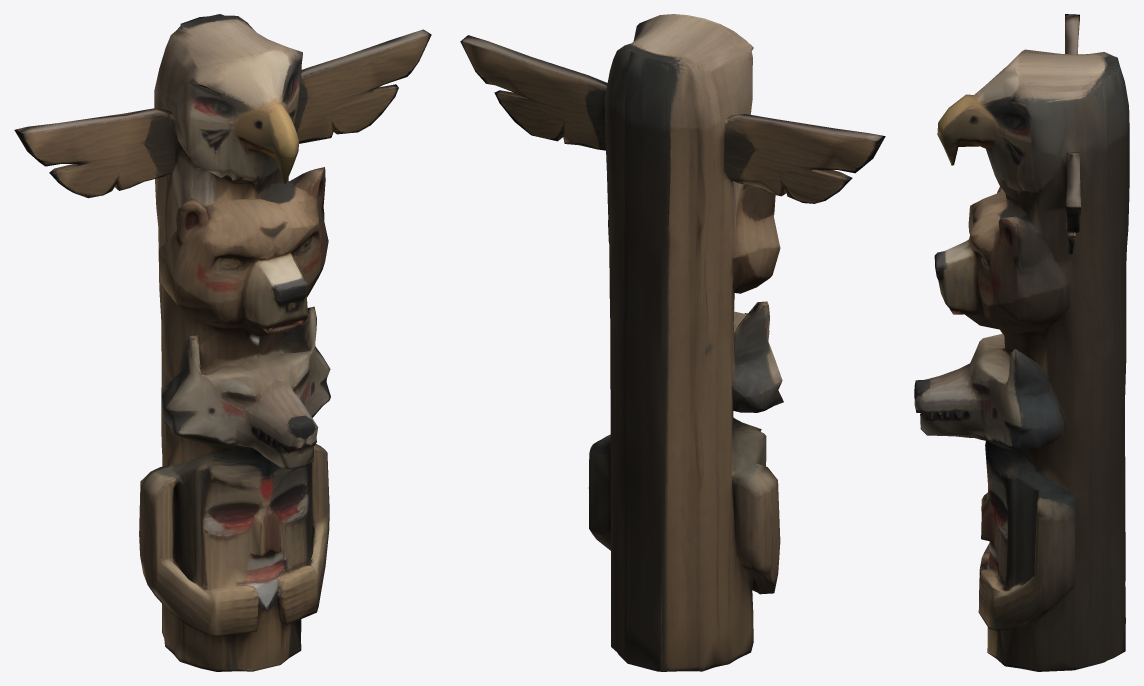
Rendered from totem_pole.glb.
3 views of the same model, side by side, from view 1: azimuth 30°, elevation 25°; view 2: azimuth 150°, elevation 25°; view 3: azimuth 270°, elevation 25° (orthographic). The views are drawn at different scales.
Parts seen in each view (by area): view 1: world; view 2: world; view 3: world.
Part boxes in pixels (<box>): world: <box>14,14,431,671</box>; world: <box>460,14,885,671</box>; world: <box>914,14,1129,671</box>.
Size of the model in its own units: 0.7149 by 0.9996 by 0.3362.
Materials: 1 (1 with a texture image).
